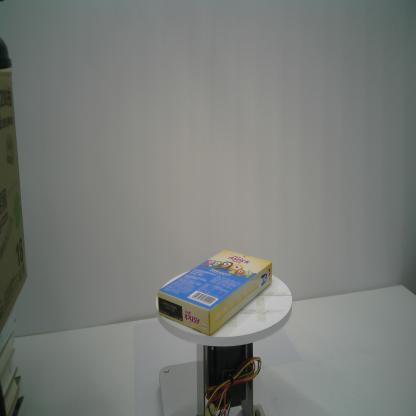Dessert: (157, 247, 274, 338)
